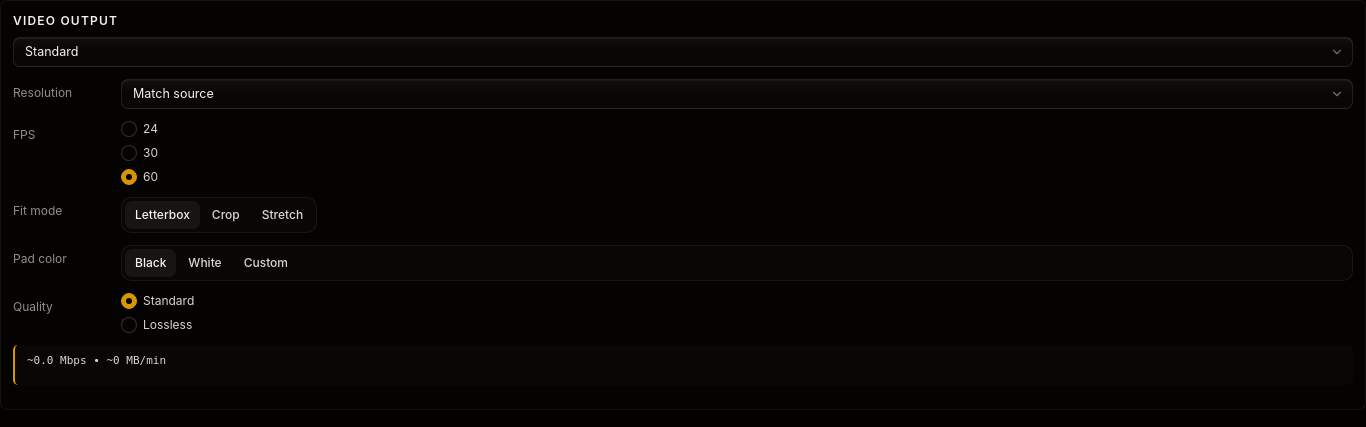
Test: VideoOutputSection › Quality Standard → Lossless flips activePreset to Lossless
What coordinates should you click on to do the following:
click the radio button named "Lossless" next to "Lossless"
I would click on:
 (129, 325)
Its box is [121,317,137,333].
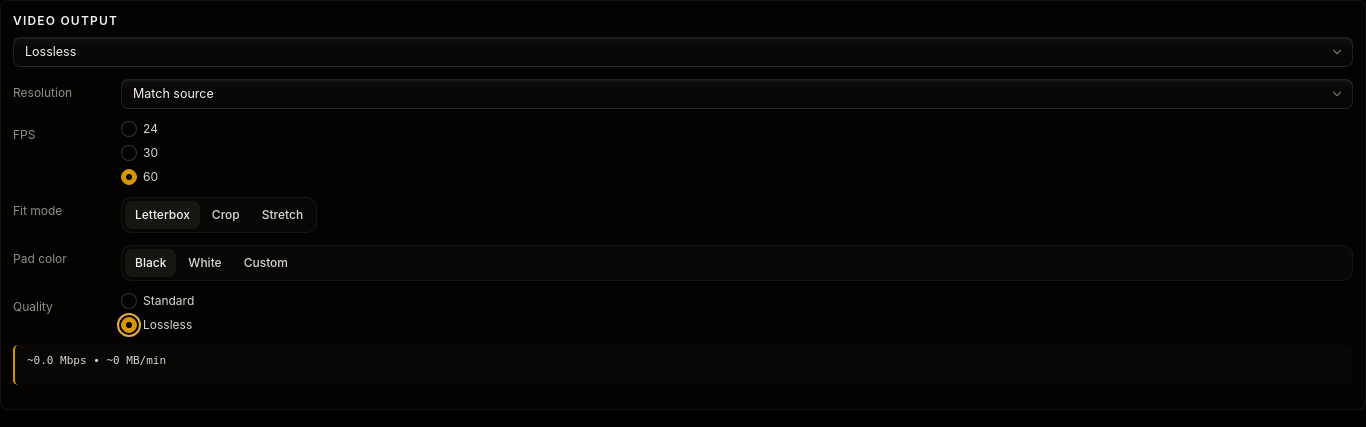
Now the text "Lossless" is shown, box [25,43,76,61]
